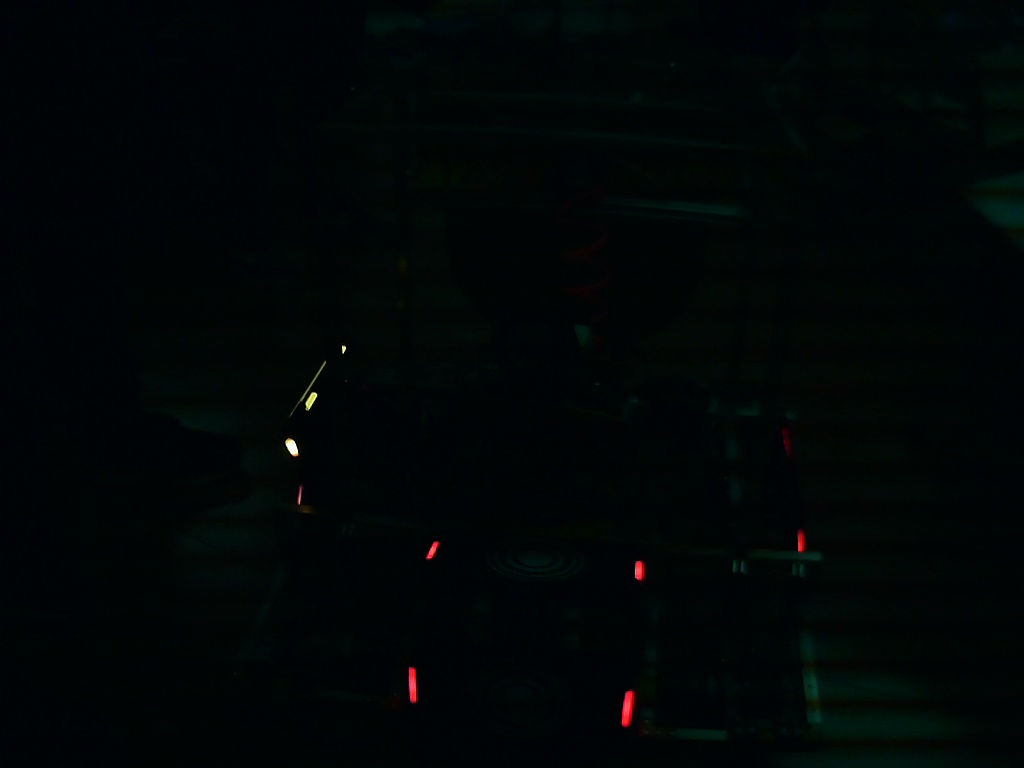lamp: (617, 688, 636, 730), (403, 664, 421, 706)
